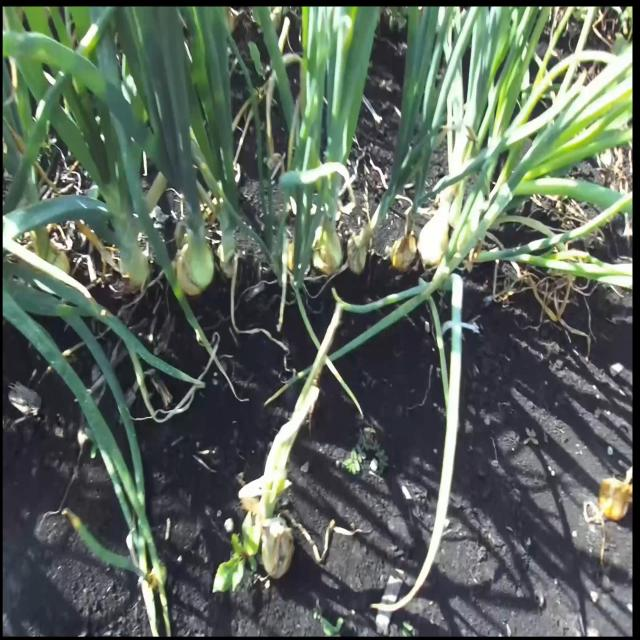onion: (175, 236, 213, 294), (260, 523, 295, 581), (416, 212, 448, 263), (312, 220, 342, 272), (392, 229, 415, 275), (349, 226, 368, 274)
